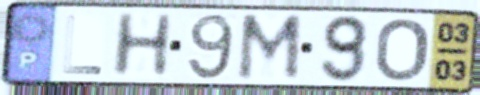9: (317, 12, 370, 85), (184, 12, 238, 82)
H: (108, 11, 177, 80)
L: (60, 12, 105, 76)
M: (234, 12, 306, 84)
O: (373, 16, 432, 84)
